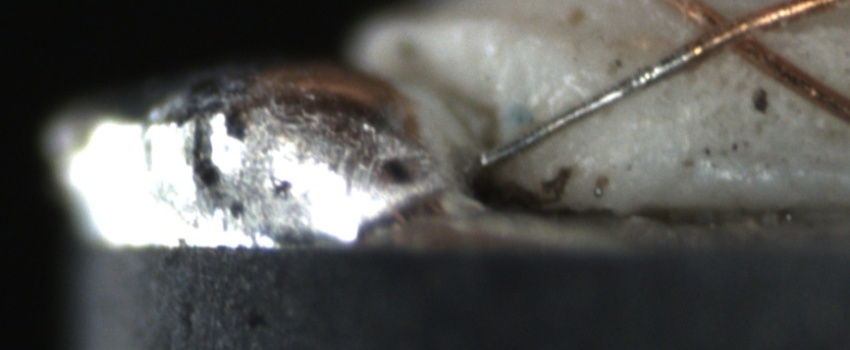CL: (689, 2, 775, 62)
DL: (576, 20, 850, 55)
TS: (485, 49, 688, 166)
